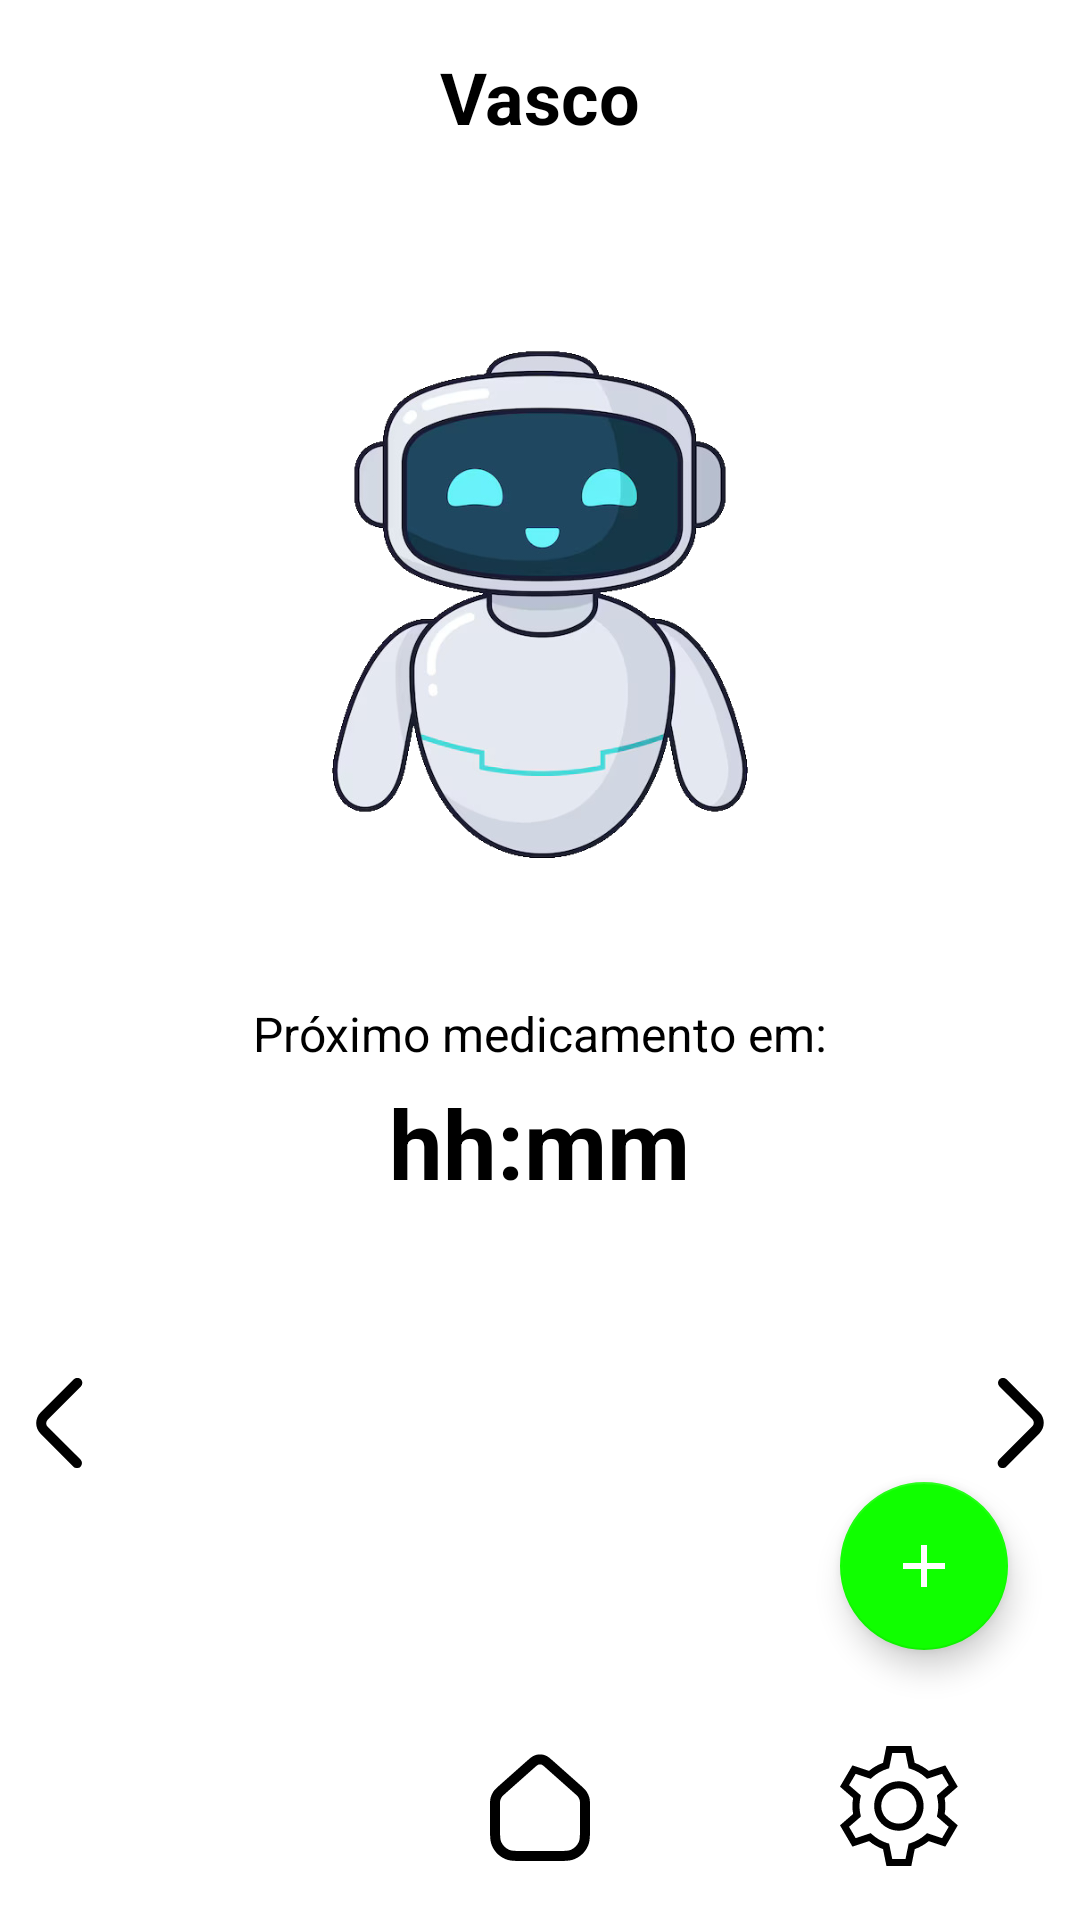

Point at icon controls on the screen. Image size 1080×1920, points as (x=x, y=y).
Adicionar Medicamento: (x=924, y=1566)
Anterior: (x=59, y=1423)
home: (x=540, y=1807)
Próximo: (x=1020, y=1423)
setting: (x=899, y=1806)
